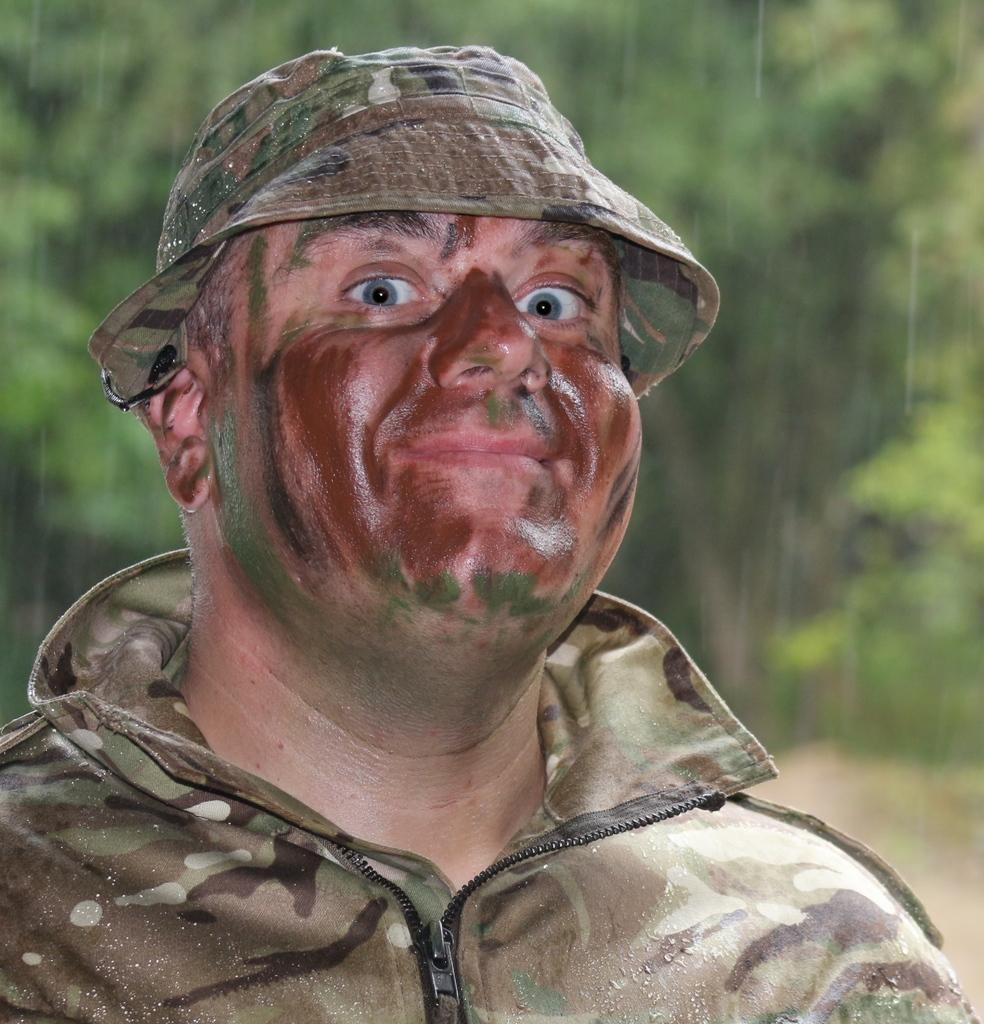Hat: (92, 42, 720, 398)
